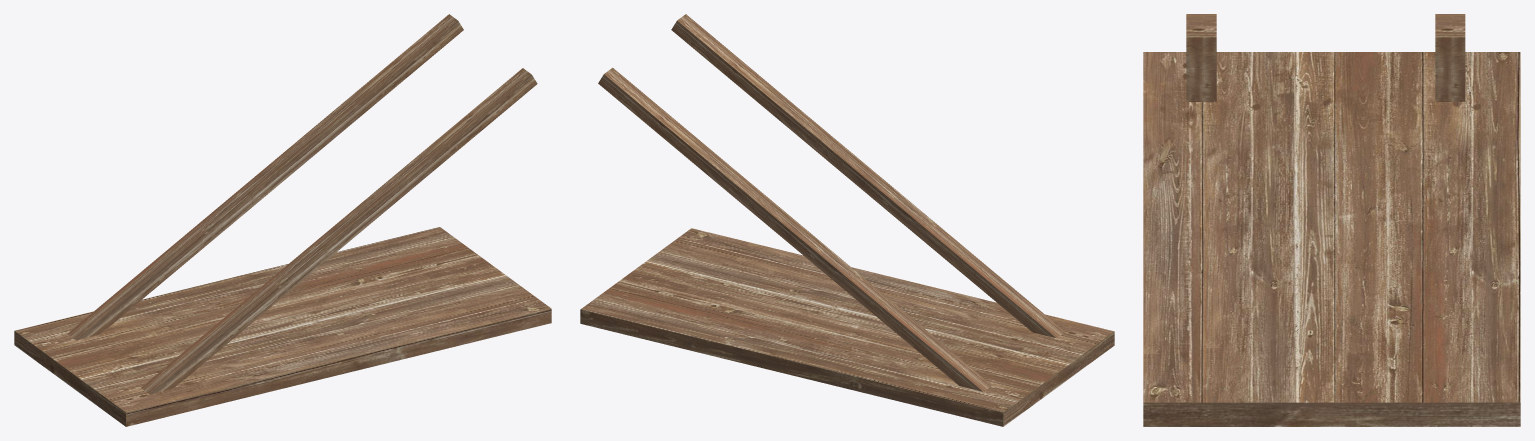
Rendered from dockFBX.FBX.
3 views of the same model, side by side, from view 1: azimuth 30°, elevation 25°; view 2: azimuth 150°, elevation 25°; view 3: azimuth 270°, elevation 25° (orthographic). The views are drawn at different scales.
Parts seen in each view (by area): view 1: Box001, Box002, Box003; view 2: Box001, Box003, Box002; view 3: Box001, Box002, Box003.
Part boxes in pixels (x1,y1,x2,y2): Box001: [14, 227, 551, 426]; Box002: [141, 68, 537, 394]; Box003: [67, 14, 463, 340]; Box001: [580, 228, 1114, 426]; Box003: [598, 67, 991, 391]; Box002: [671, 14, 1065, 338]; Box001: [1143, 52, 1520, 426]; Box002: [1186, 14, 1216, 101]; Box003: [1435, 14, 1465, 101].
Bounding box in the file's own units: 97.23 × 52.61 × 44.22.
2 materials, 2 textured.
